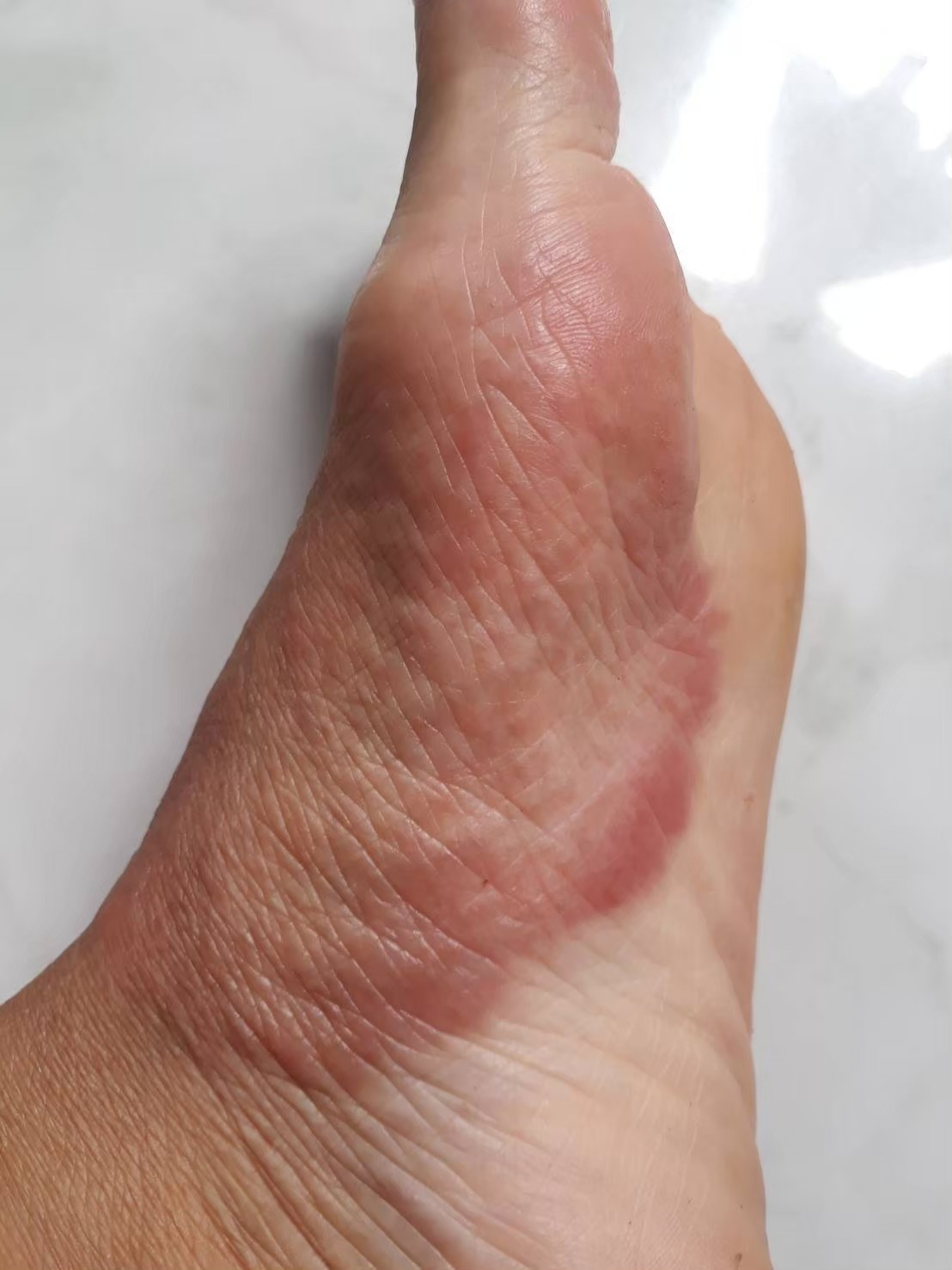Leprosy: (137, 211, 741, 1103)
